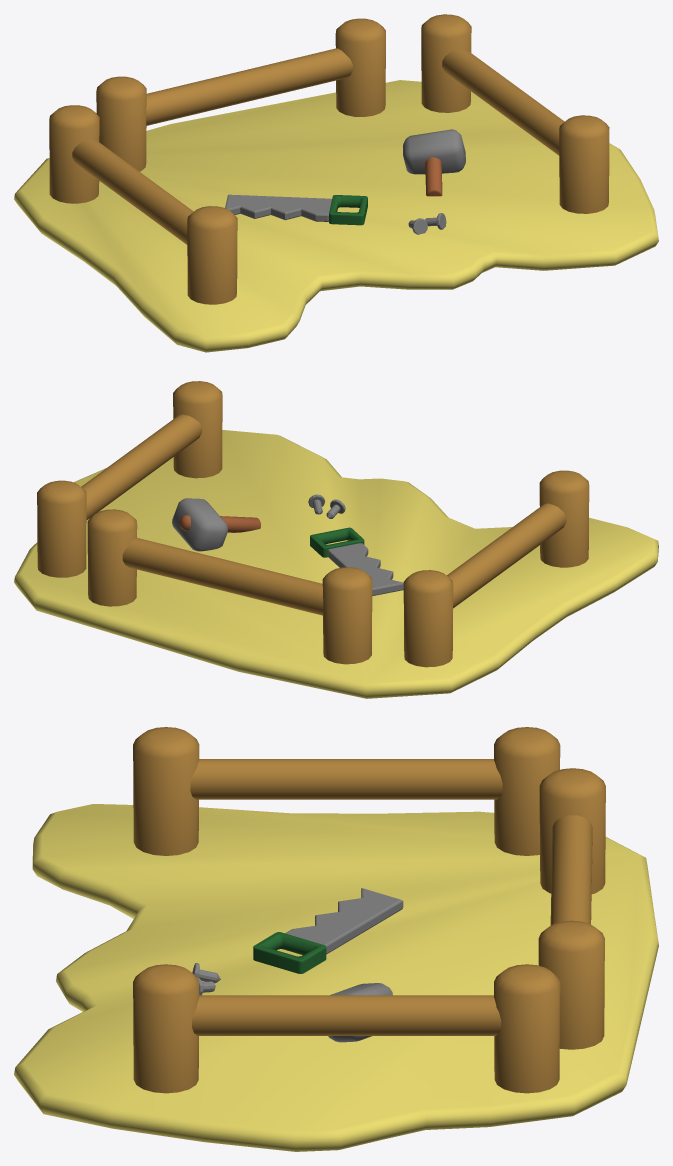
Rendered from Building Area.fbx.
3 renders of one model, top to bottom at view 1: azimuth 30°, elevation 25°; view 2: azimuth 150°, elevation 25°; view 3: azimuth 270°, elevation 25°, orthographic. The views are drawn at different scales.
Visible parts, largest first — view 1: Building_Area; view 2: Building_Area; view 3: Building_Area.
Boxes of the visible parts, x1,y1,x2,y2 form: Building_Area: [14, 14, 658, 352]; Building_Area: [14, 381, 658, 698]; Building_Area: [14, 727, 658, 1151].
Size of the model in its own units: 10.22 by 1.81 by 8.32.
